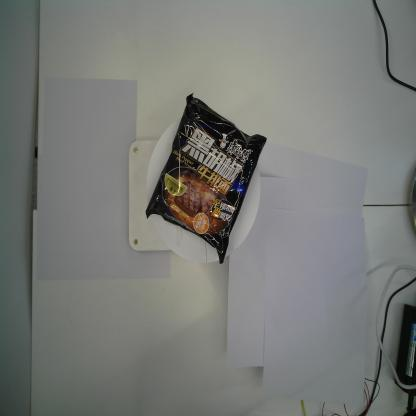Instant Noodles: (145, 90, 268, 264)
